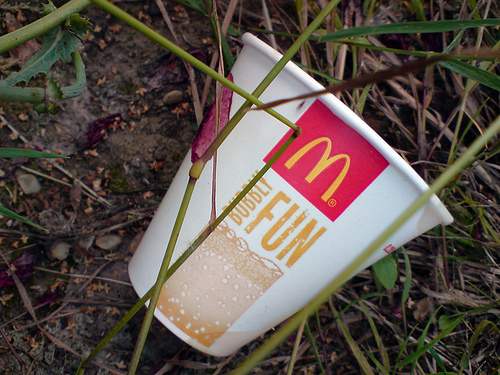litter: (123, 29, 453, 357)
